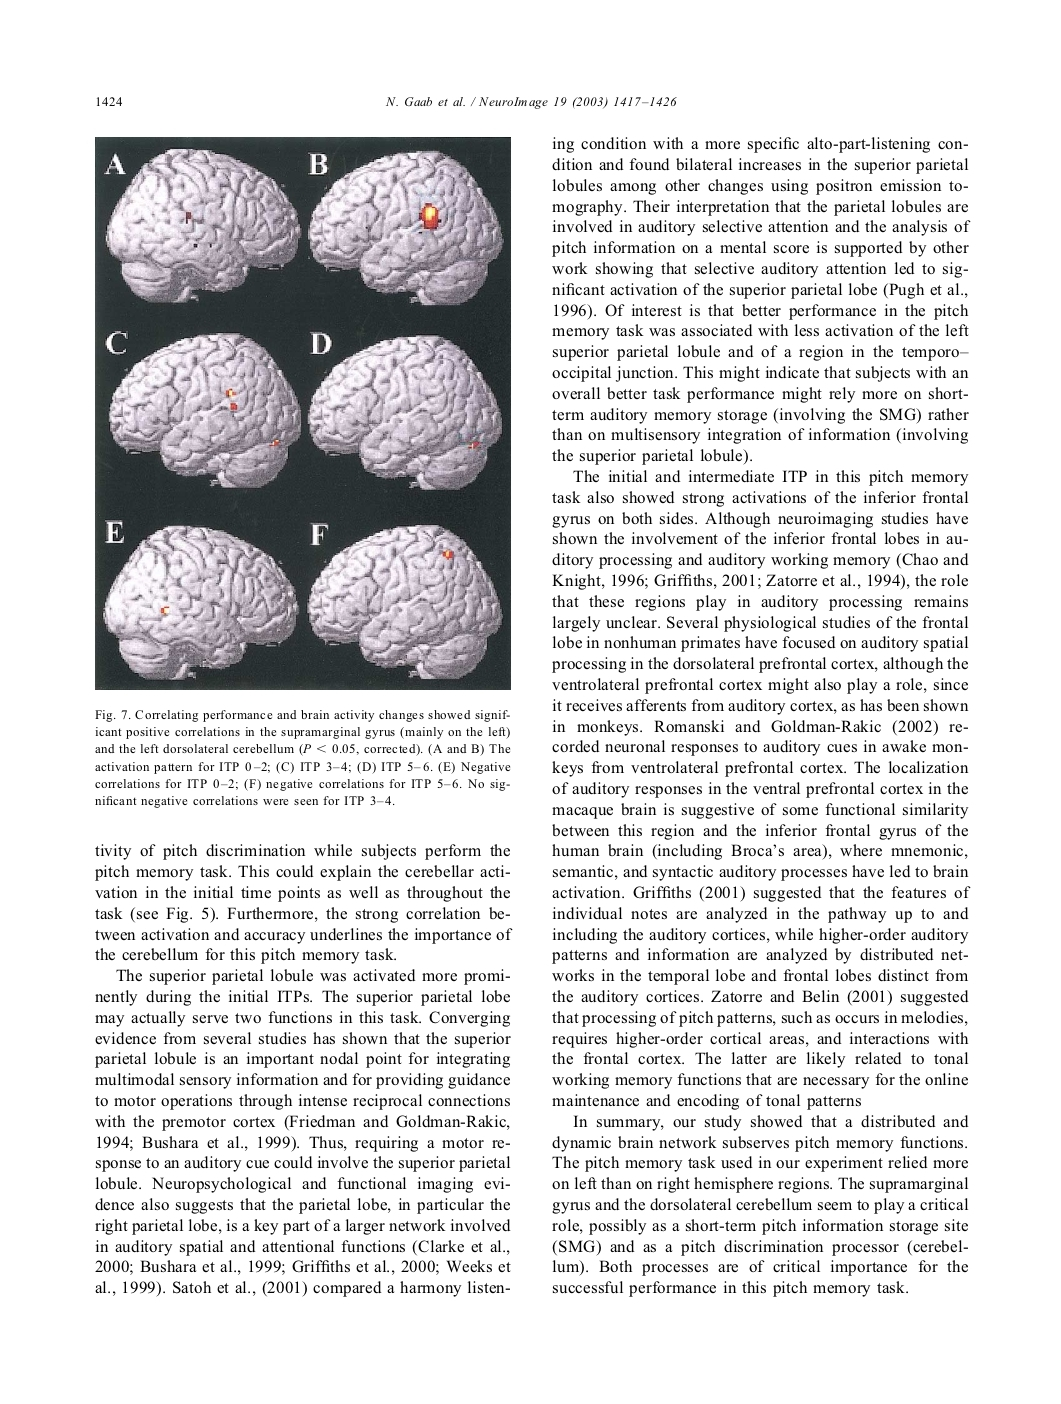figure: (95, 135, 510, 690)
